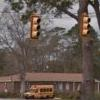Traffic light: (23, 7, 49, 42)
